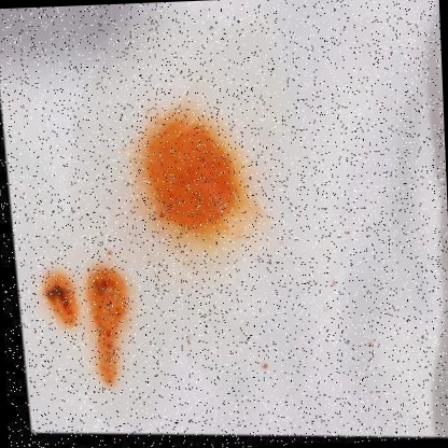kimchi: (134, 106, 257, 239), (81, 260, 135, 390), (40, 267, 74, 321), (253, 358, 270, 377), (103, 241, 115, 258)
